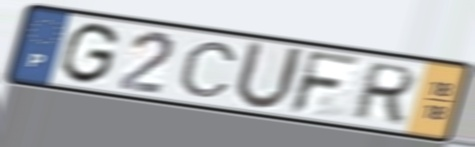2: (115, 29, 178, 97)
C: (176, 39, 241, 99)
F: (285, 48, 366, 118)
G: (58, 21, 123, 87)
R: (346, 60, 421, 125)
U: (229, 38, 307, 113)
